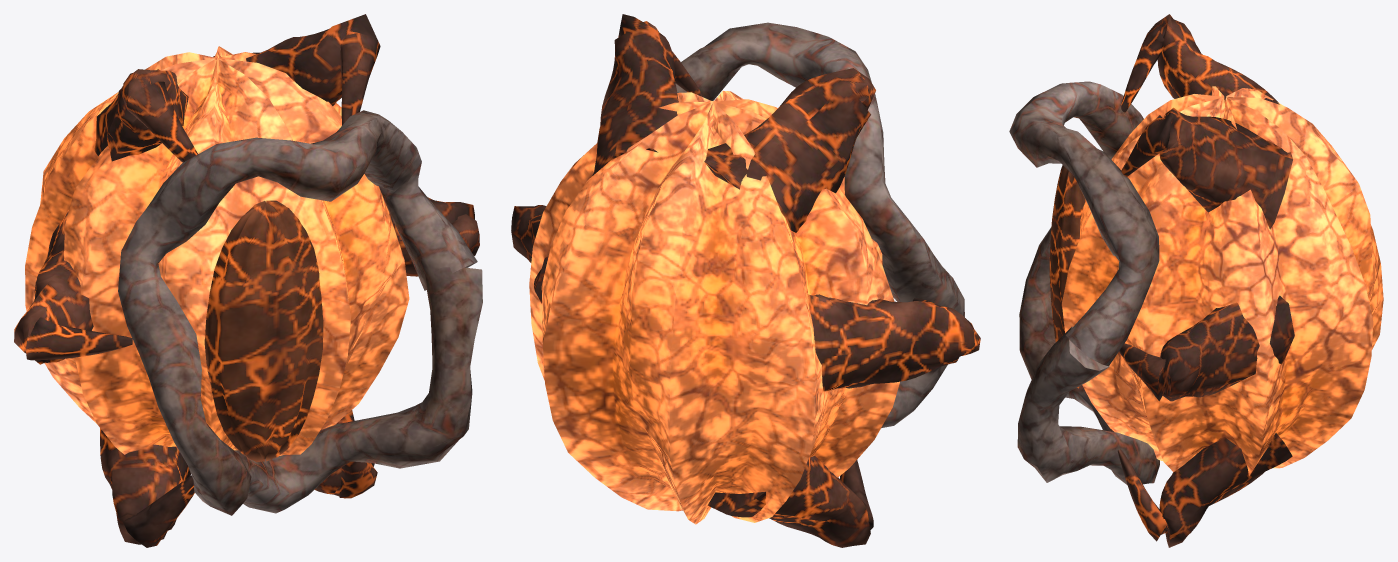
Rendered from uncased-furnace.glb.
3 renders of one model, left to right at view 1: azimuth 30°, elevation 25°; view 2: azimuth 150°, elevation 25°; view 3: azimuth 270°, elevation 25°, orthographic. The views are drawn at different scales.
Visible parts, largest first — view 1: uncased-furnace_signal, uncased-furnace_rib, uncased-furnace_carapace, uncased-furnace_membrane; view 2: uncased-furnace_signal, uncased-furnace_carapace, uncased-furnace_rib; view 3: uncased-furnace_signal, uncased-furnace_carapace, uncased-furnace_rib, uncased-furnace_membrane.
Part boxes in pixels (bbox=[...]): uncased-furnace_signal: bbox=[25, 46, 409, 455]; uncased-furnace_rib: bbox=[118, 110, 482, 515]; uncased-furnace_carapace: bbox=[14, 14, 479, 547]; uncased-furnace_membrane: bbox=[204, 200, 323, 462]; uncased-furnace_signal: bbox=[529, 91, 899, 524]; uncased-furnace_carapace: bbox=[511, 14, 980, 547]; uncased-furnace_rib: bbox=[675, 22, 964, 428]; uncased-furnace_signal: bbox=[1062, 86, 1383, 475]; uncased-furnace_carapace: bbox=[1117, 14, 1294, 547]; uncased-furnace_rib: bbox=[1009, 81, 1159, 484]; uncased-furnace_membrane: bbox=[1049, 165, 1085, 388].
Size of the model in its own units: 1.66 by 1.65 by 1.28.
Materials: 4 (4 with a texture image).
